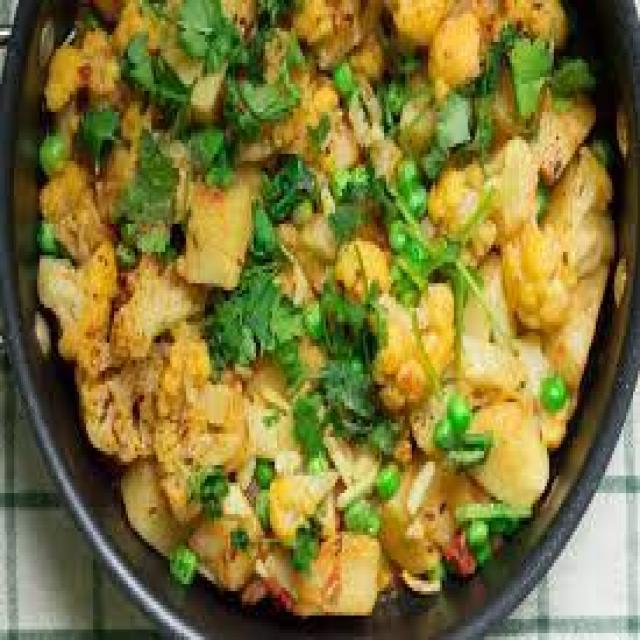aloo_gobi: (41, 0, 627, 633)
